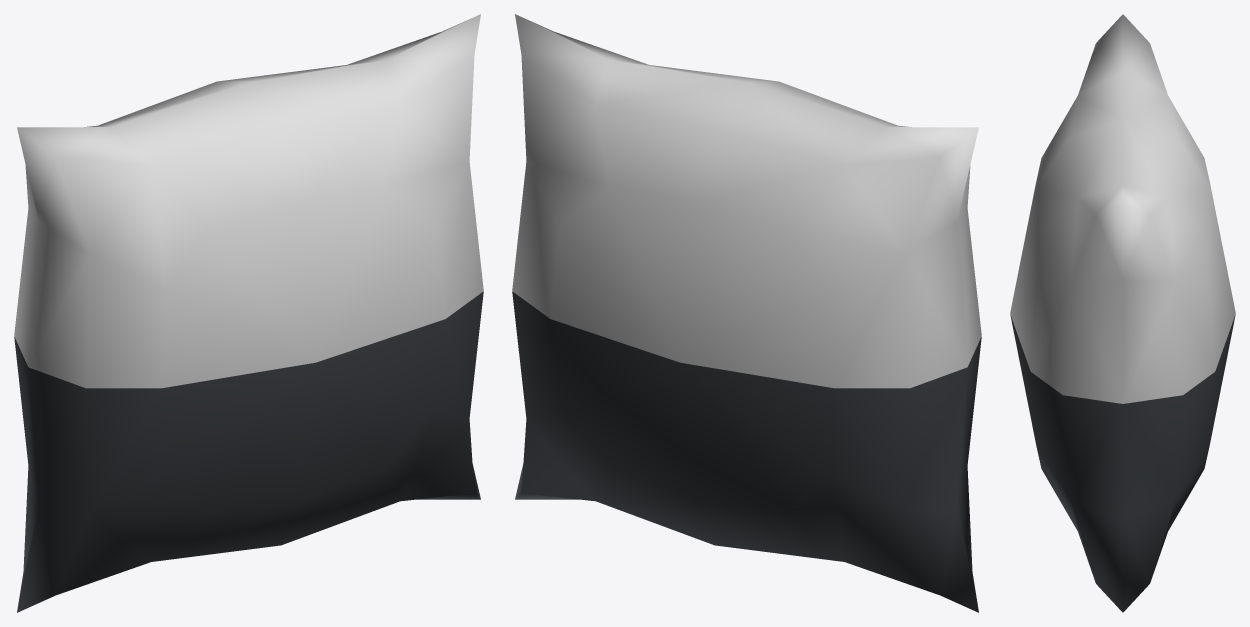
The model's file is 54_cushion3.FBX.
The picture shows the model from 3 angles, left to right: view 1: azimuth 30°, elevation 25°; view 2: azimuth 150°, elevation 25°; view 3: azimuth 270°, elevation 25°; orthographic projection. The views are drawn at different scales.
Parts seen in each view (by area): view 1: prop_cushion3; view 2: prop_cushion3; view 3: prop_cushion3.
Part boxes in pixels (x1,y1,x2,y2): prop_cushion3: (14,14,483,612); prop_cushion3: (512,14,981,612); prop_cushion3: (1010,14,1235,612).
Bounding box in the file's own units: 42.84 × 42.84 × 21.46.
